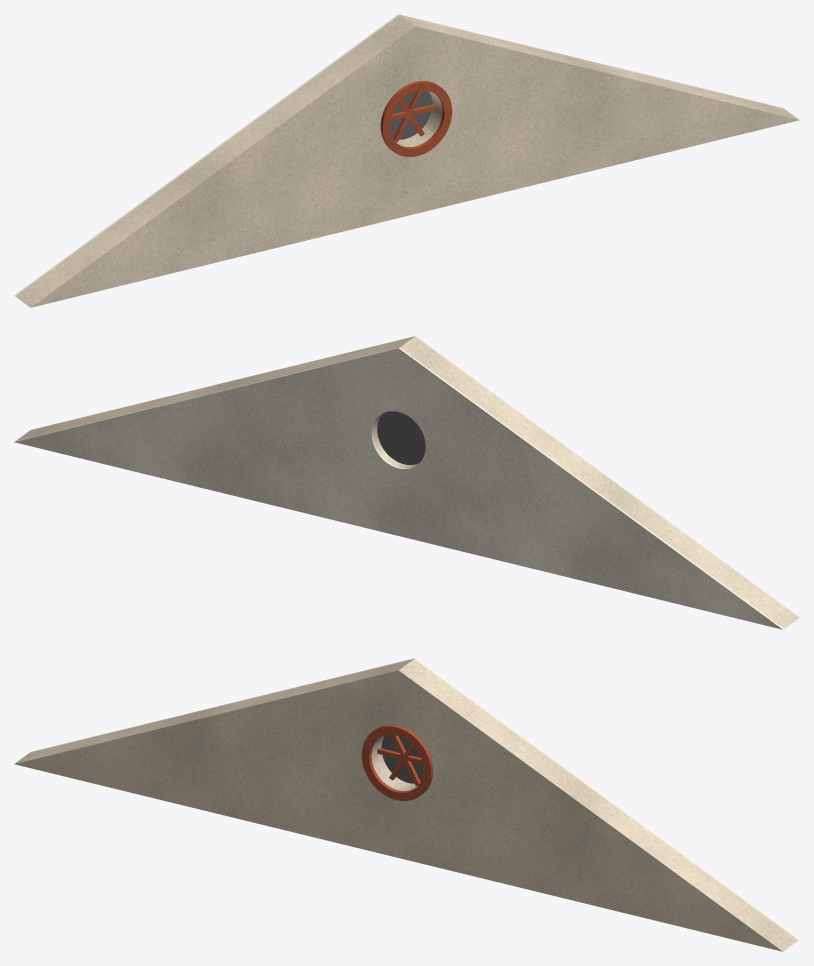
Rendered from m_gable.glb.
The picture shows the model from 3 angles, top to bottom: view 1: azimuth 30°, elevation 25°; view 2: azimuth 150°, elevation 25°; view 3: azimuth 330°, elevation 25°; orthographic projection.
Visible parts, largest first — view 1: m_gable_render, m_gable_tile_clay, m_gable_plaster, m_gable_dark; view 2: m_gable_plaster, m_gable_render, m_gable_dark; view 3: m_gable_render, m_gable_tile_clay, m_gable_plaster, m_gable_dark.
Boxes of the visible parts, x1,y1,x2,y2 form: m_gable_render: [15, 15, 799, 307]; m_gable_tile_clay: [380, 81, 452, 156]; m_gable_plaster: [14, 14, 783, 296]; m_gable_dark: [390, 90, 432, 139]; m_gable_plaster: [14, 347, 783, 629]; m_gable_render: [15, 336, 799, 628]; m_gable_dark: [377, 411, 425, 464]; m_gable_render: [14, 659, 798, 951]; m_gable_tile_clay: [361, 725, 433, 800]; m_gable_plaster: [30, 658, 799, 940]; m_gable_dark: [381, 734, 423, 783].
Bounding box in the file's own units: 7.98 × 1.86 × 0.34.
4 materials, 3 textured.
